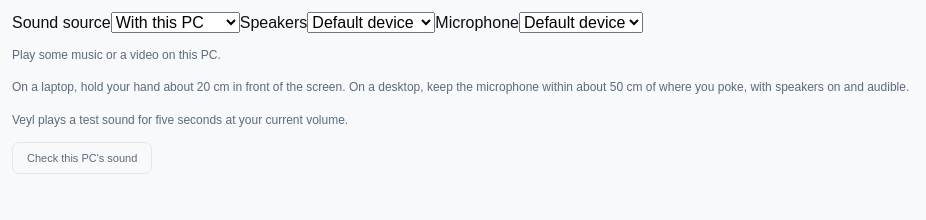
Test case: the PC sound check starts only on a click, exposes cancellation and shows the measured result
Click the button "Check this PC's sound": (82, 158) [12,142,152,174]
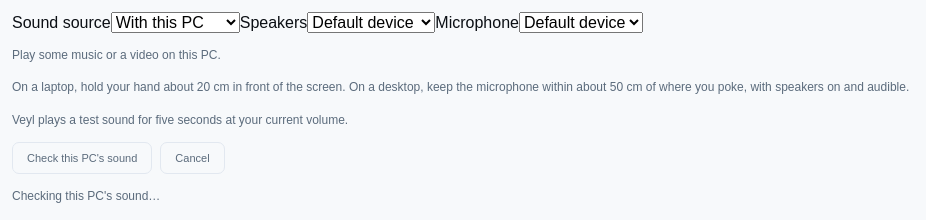
Click the button "Cancel": (192, 158) [160,142,225,174]
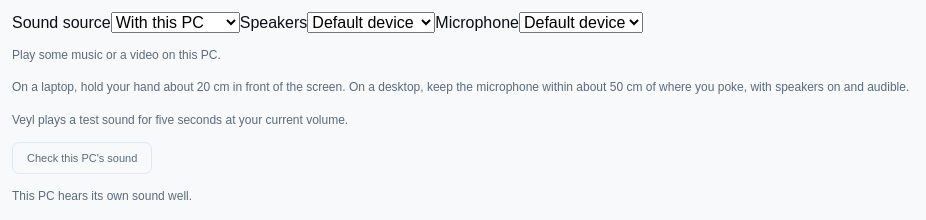
Expected: the text "This PC hears its own sound well." is shown, [12,189,192,203]
